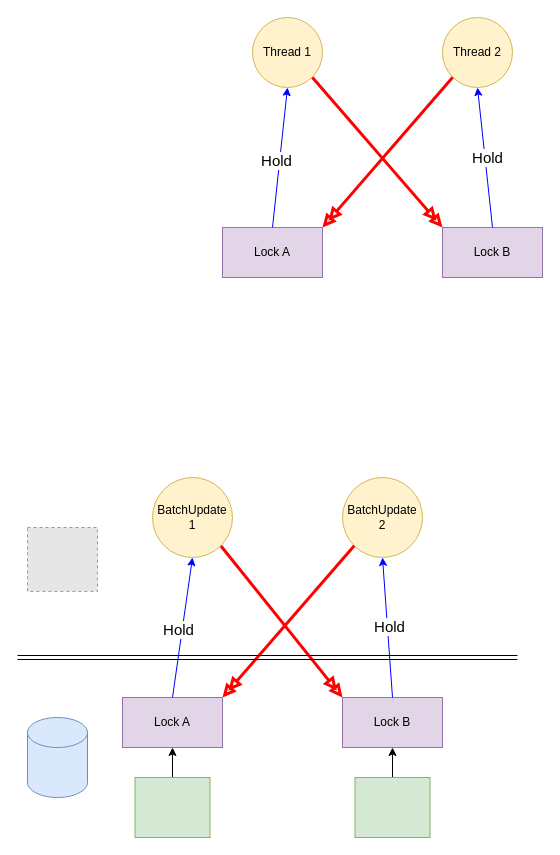
The diagram is 560 pixels wide and 855 high, and some of its shapes have lost their labels. Grey dashed boxes stand in for pictures. The centre of each missing label's shape, as x and y in pixels:
"DB" belongs at pixel 57 757.
"id_1: 100" belongs at pixel 392 807.
"id_1: 50" belongs at pixel 172 807.
